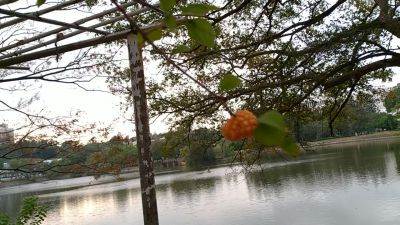eggs: (220, 108, 259, 142)
